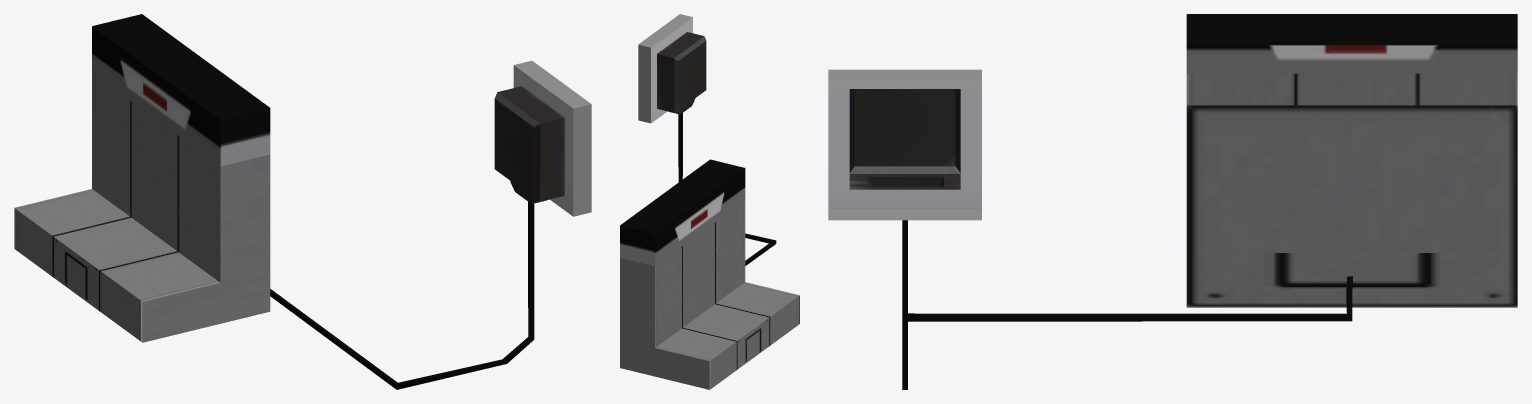
File: Roomba_Charge_Station.fbx
The picture shows the model from 3 angles, left to right: view 1: azimuth 30°, elevation 25°; view 2: azimuth 150°, elevation 25°; view 3: azimuth 270°, elevation 25°; orthographic projection. The views are drawn at different scales.
Parts seen in each view (by area): view 1: Roomba_Return1; view 2: Roomba_Return1; view 3: Roomba_Return1.
Boxes of the visible parts, x1=… form: Roomba_Return1: x1=14, y1=14, x2=591, y2=389; Roomba_Return1: x1=620, y1=14, x2=799, y2=389; Roomba_Return1: x1=828, y1=14, x2=1517, y2=389.
Size of the model in its own units: 44.83 by 36.9 by 67.02.
